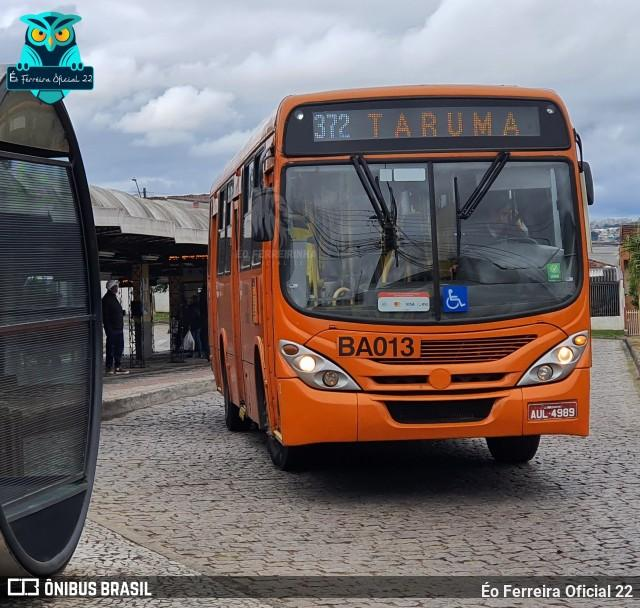TARUMA: (362, 107, 524, 142)
